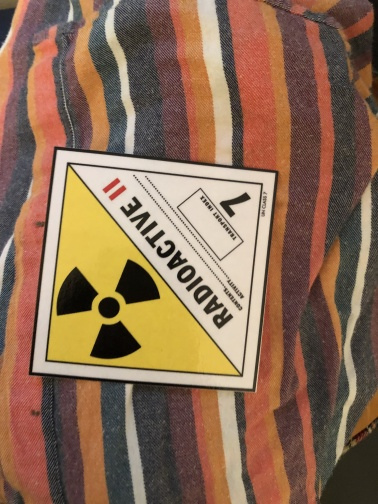Radioactive: (31, 149, 276, 389)
